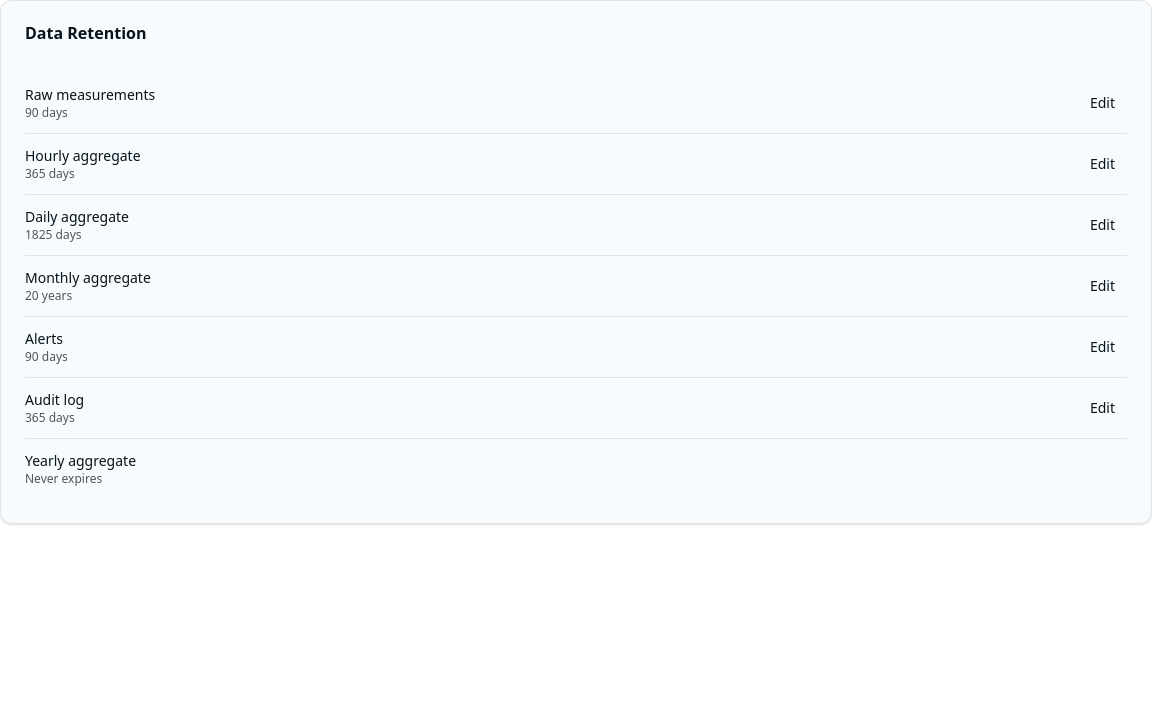
EditRetentionDialog — interaction › Test 5: clicking Edit on raw row opens EditRetentionDialog pre-filled with 90
Expected: the text "Raw measurements" is shown, [25,85,155,105]
Note: Click Edit on Raw measurements row
Click the button with aria-label "Edit Raw measurements" at (1102, 103), box [1078,87,1127,119]
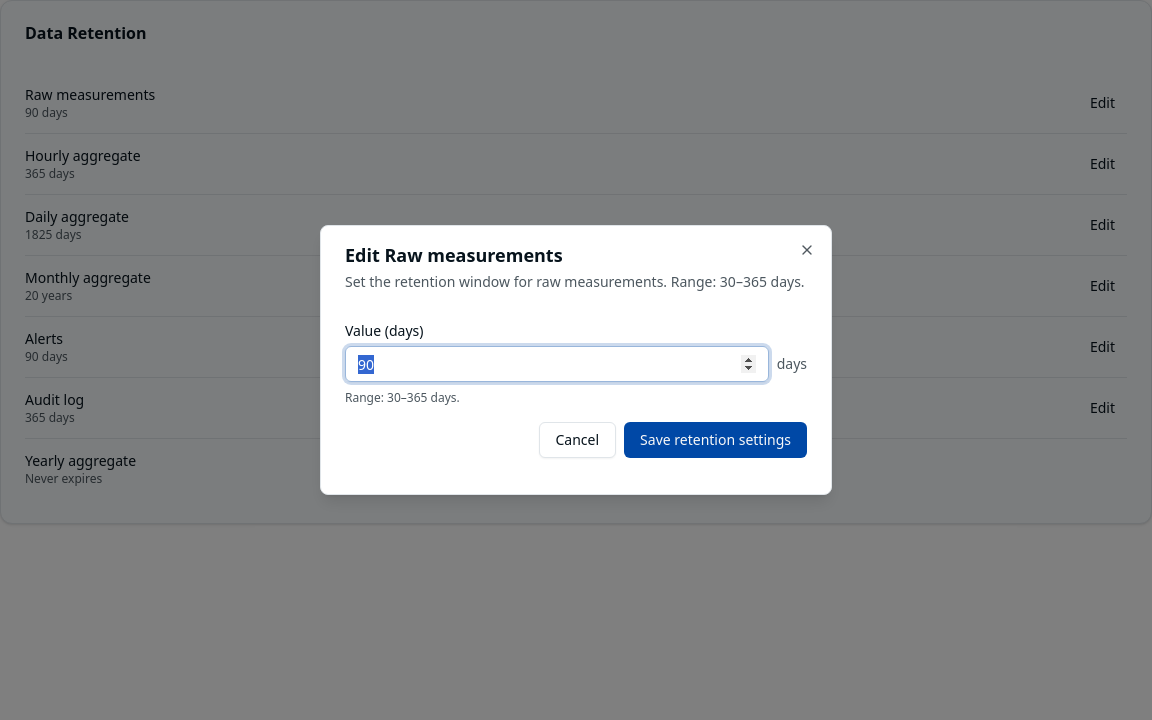
Now the heading "Edit Raw measurements" is shown, box [345,243,563,267]
Now the number field holds "90", box [345,346,769,382]
